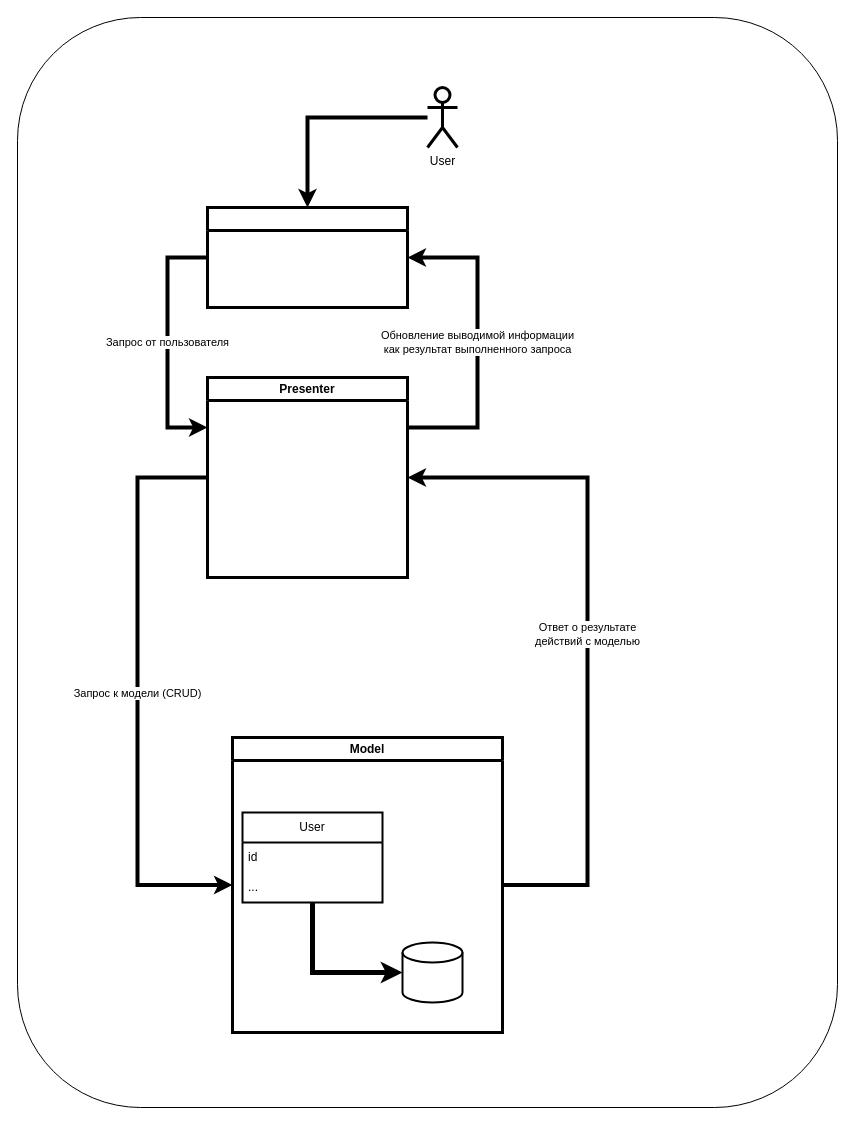
Image size: 855x1125. Some labels were removed from this diagram. The centre of each missing label's shape, as x and y in pixels:
"Database" belongs at point 432,972.
"View" belongs at point 307,257.
